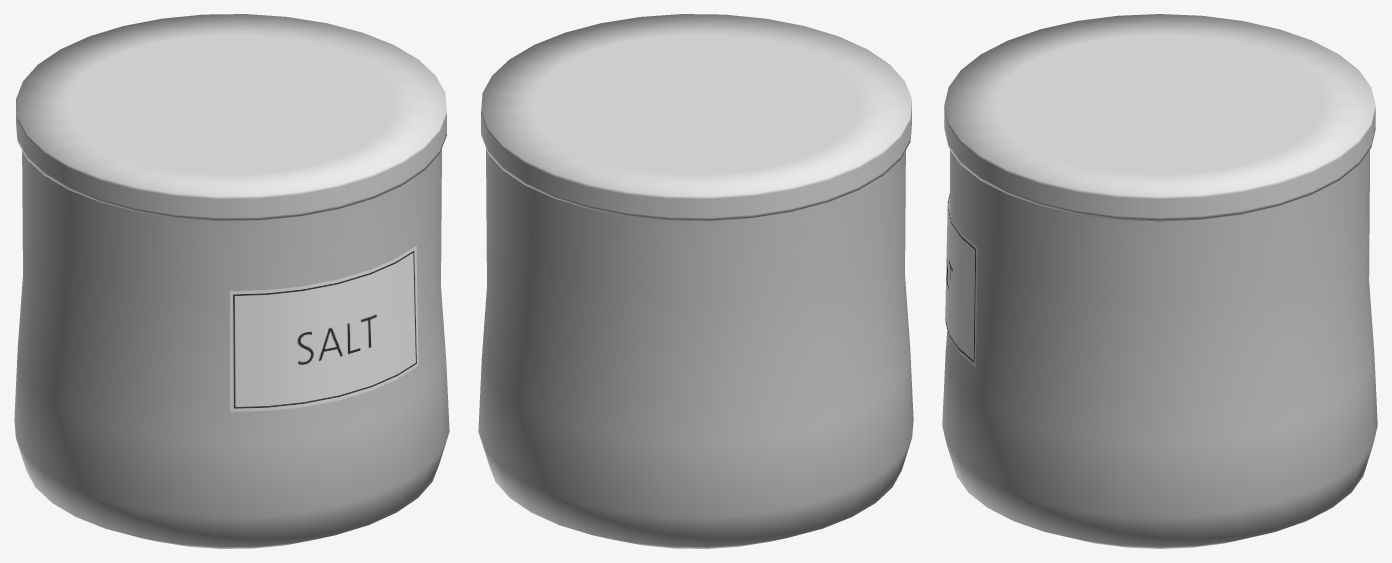
File: Container(Label).fbx
3 views of the same model, side by side, from view 1: azimuth 30°, elevation 25°; view 2: azimuth 150°, elevation 25°; view 3: azimuth 270°, elevation 25° (orthographic).
Parts seen in each view (by area): view 1: Container Salt, Container Top Salt, Salt Label; view 2: Container Salt, Container Top Salt; view 3: Container Salt, Container Top Salt, Salt Label.
Part boxes in pixels (x1,y1,x2,y2): Container Salt: (14, 149, 449, 548); Container Top Salt: (16, 14, 446, 220); Salt Label: (230, 246, 418, 411); Container Salt: (478, 149, 913, 548); Container Top Salt: (481, 14, 911, 220); Container Salt: (942, 150, 1377, 548); Container Top Salt: (944, 14, 1375, 220); Salt Label: (945, 191, 977, 366).
Size of the model in its own units: 0.2674 by 0.2526 by 0.2674.
